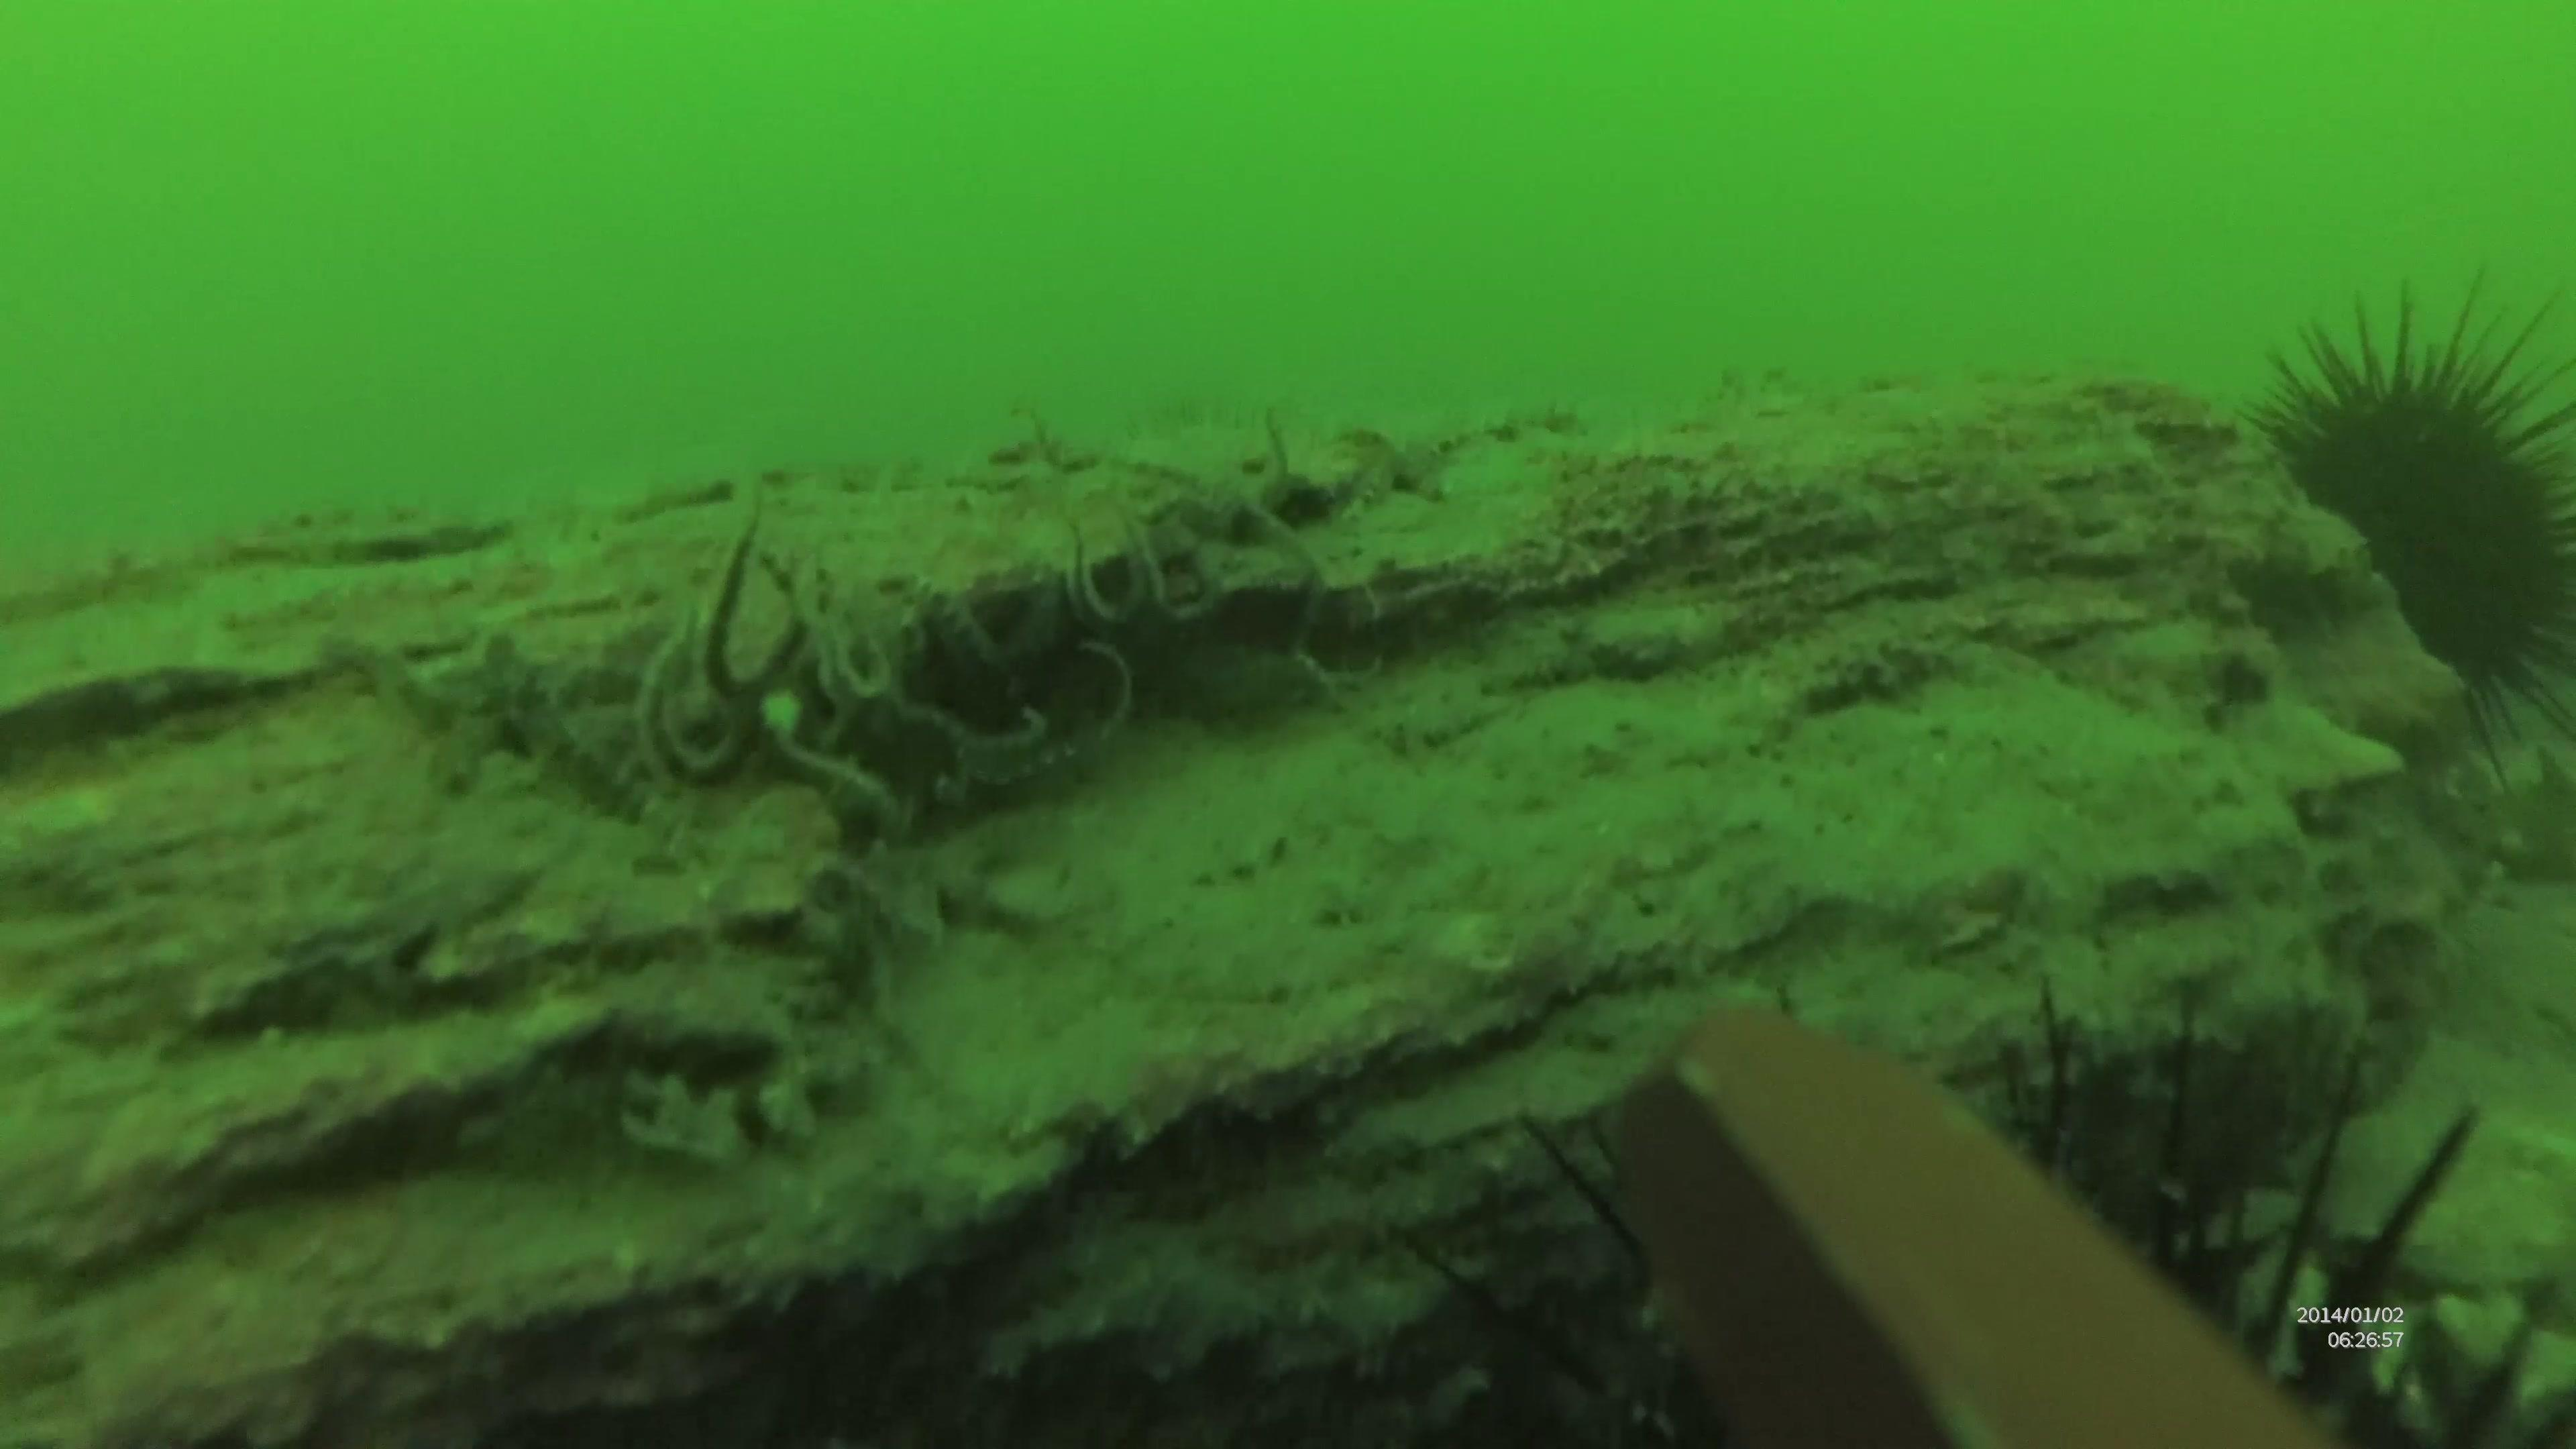echinus: (1426, 1021, 2576, 1449), (2265, 258, 2576, 773)
